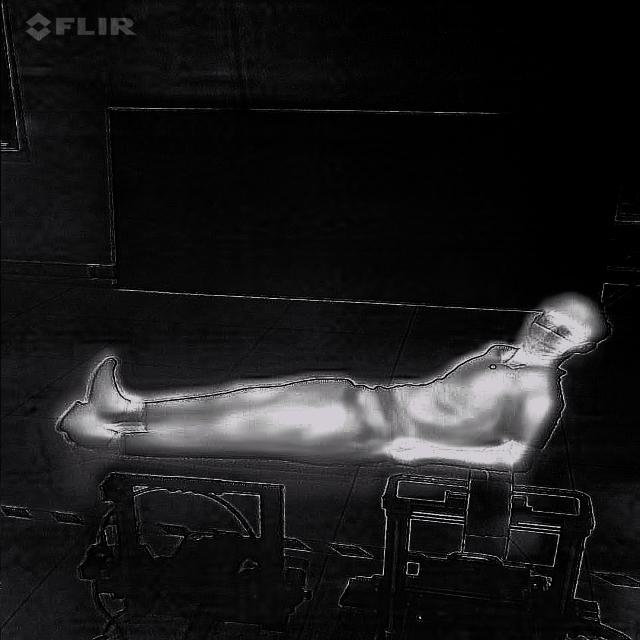Victim: (43, 286, 619, 473)
